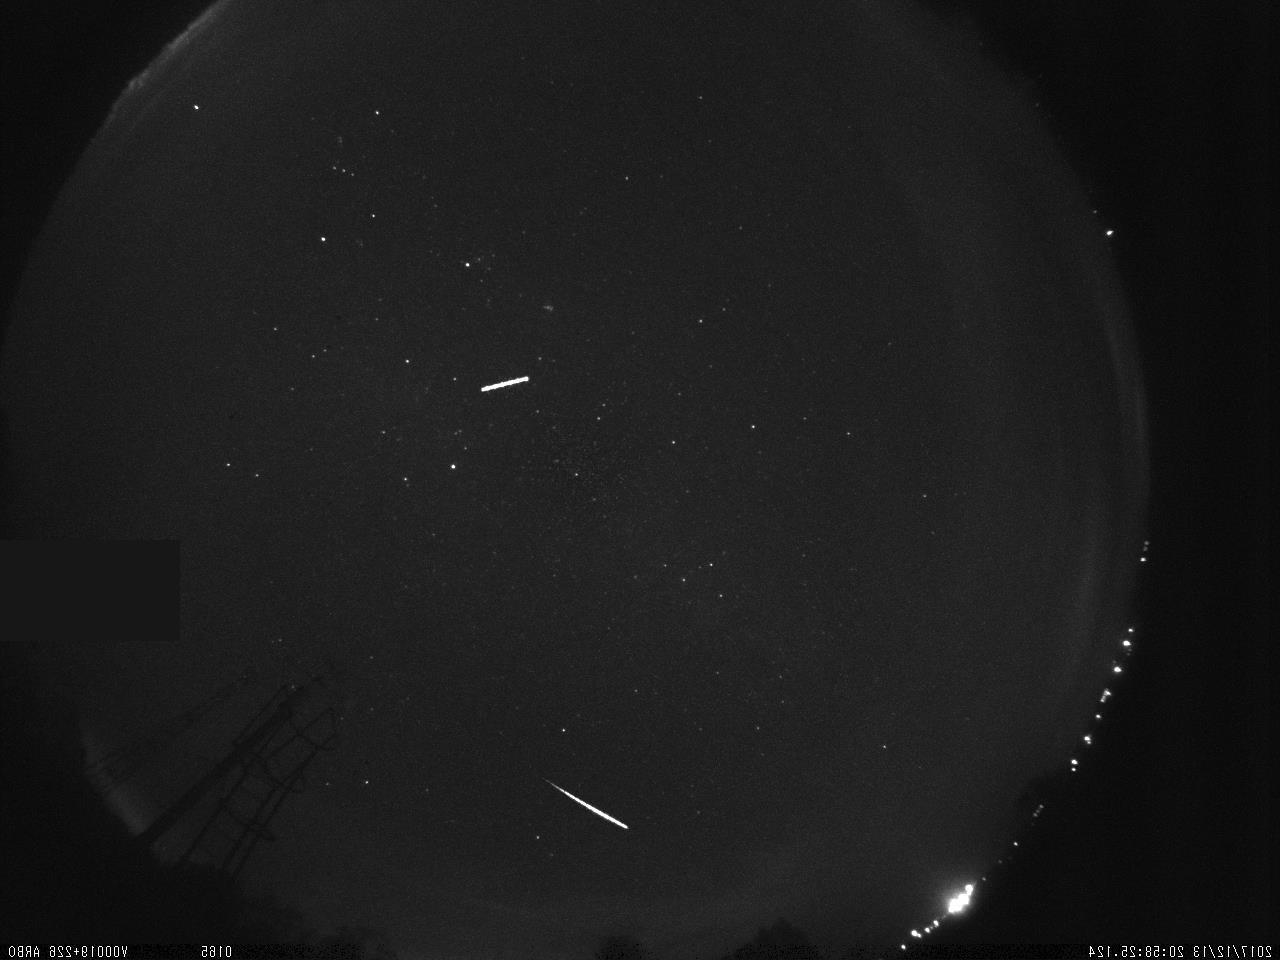meteor: (533, 766, 635, 842)
satelite: (474, 369, 531, 400)
